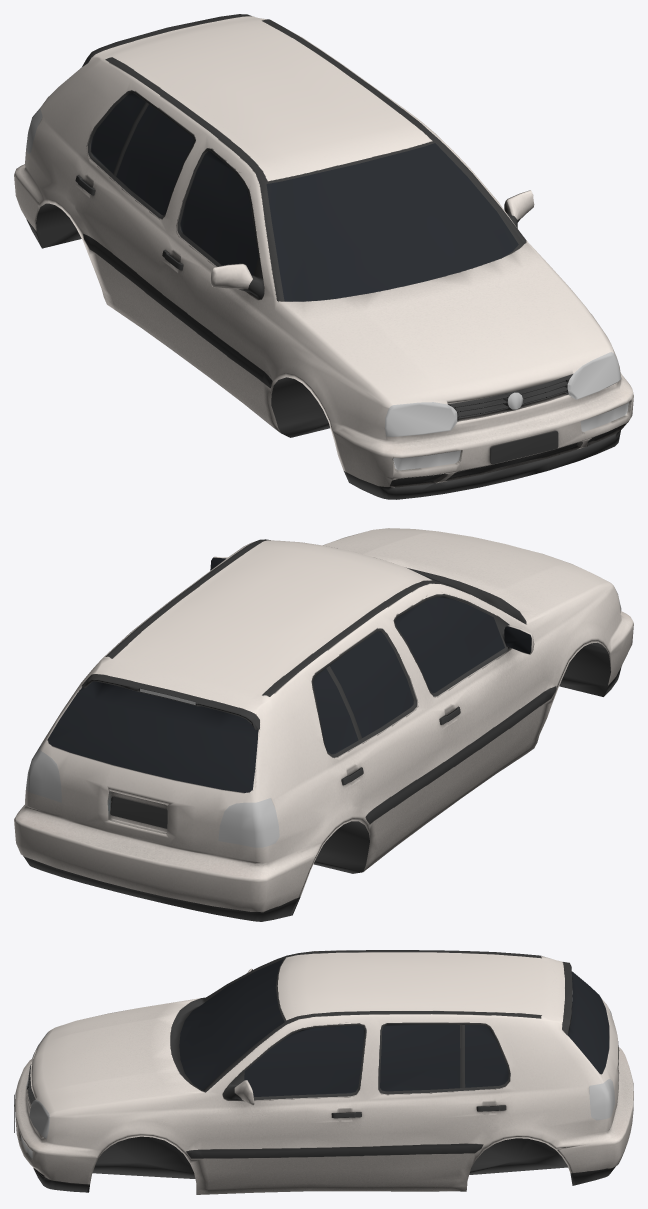
The model's file is car_0013.fbx.
The picture shows the model from 3 angles, top to bottom: view 1: azimuth 30°, elevation 25°; view 2: azimuth 150°, elevation 25°; view 3: azimuth 270°, elevation 25°; orthographic projection. The views are drawn at different scales.
Parts seen in each view (by area): view 1: car_main; view 2: car_main; view 3: car_main.
Boxes of the visible parts, box(x1,y1,x2,y2) form: car_main: box(14, 14, 633, 499); car_main: box(14, 528, 633, 921); car_main: box(14, 950, 633, 1194).
Bounding box in the file's own units: 201 × 132 × 430.
